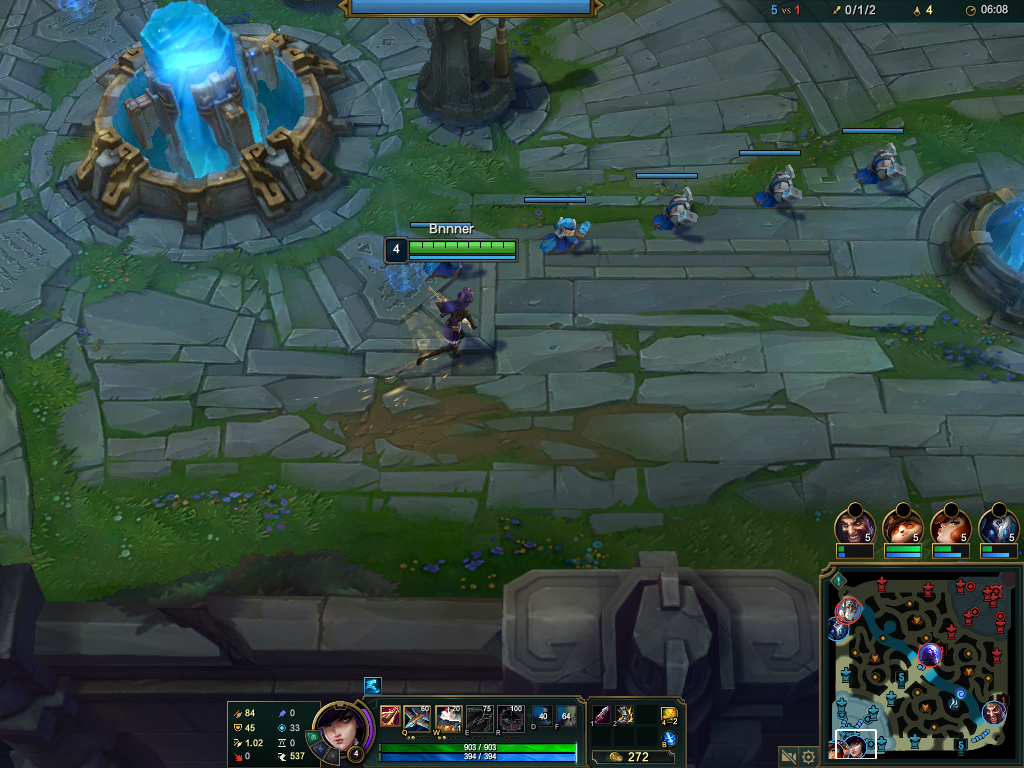WFSJ: (90, 32, 330, 197)
WFXB: (549, 222, 584, 252), (660, 197, 690, 232), (758, 178, 794, 206), (864, 155, 900, 183), (440, 262, 465, 272)
Yita: (954, 742, 968, 752)
